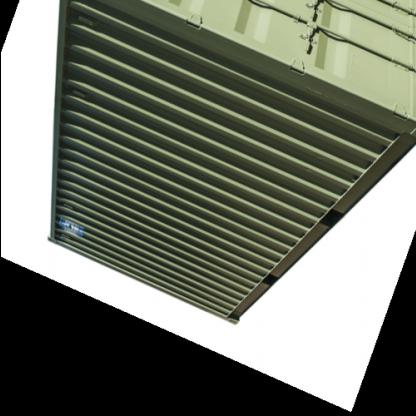Damage: (300, 76, 334, 106)
